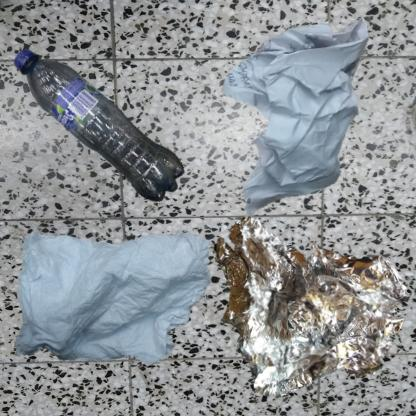aluminio: (213, 213, 409, 398)
botella: (10, 10, 225, 278)
papel: (213, 10, 394, 226), (10, 213, 223, 381)
